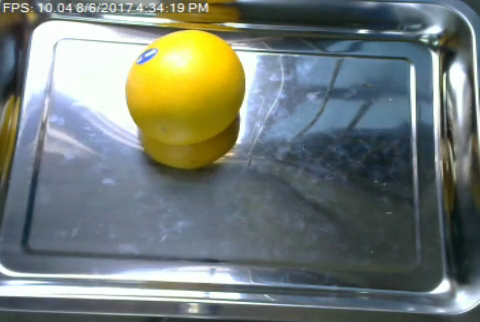Orange: (126, 28, 246, 144)
